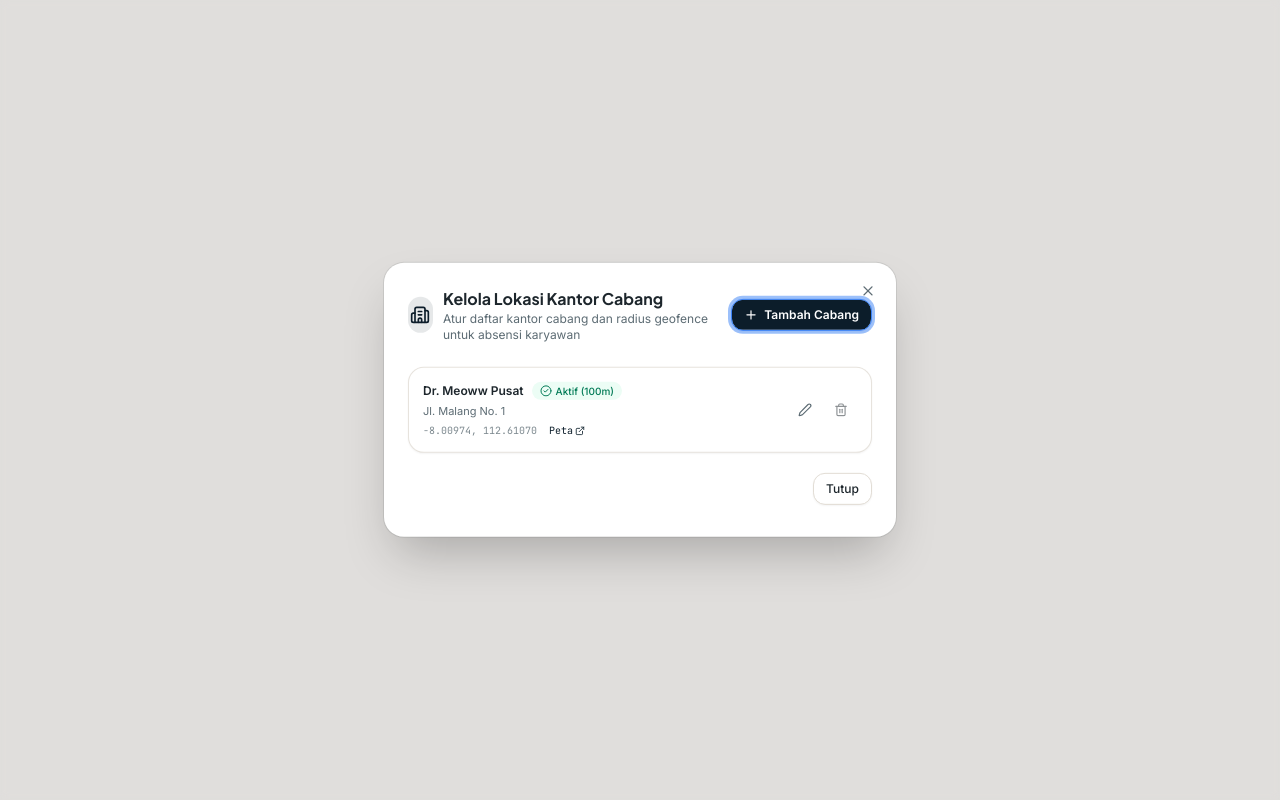
Test: Red-Team Regression Tests - Branch Location & Link Resolution Protections › Defect 6: Concurrency protection ignores out-of-order responses from older requests
Click the button "Tambah Cabang".
click(802, 315)  # box left=731, top=299, right=872, bottom=331
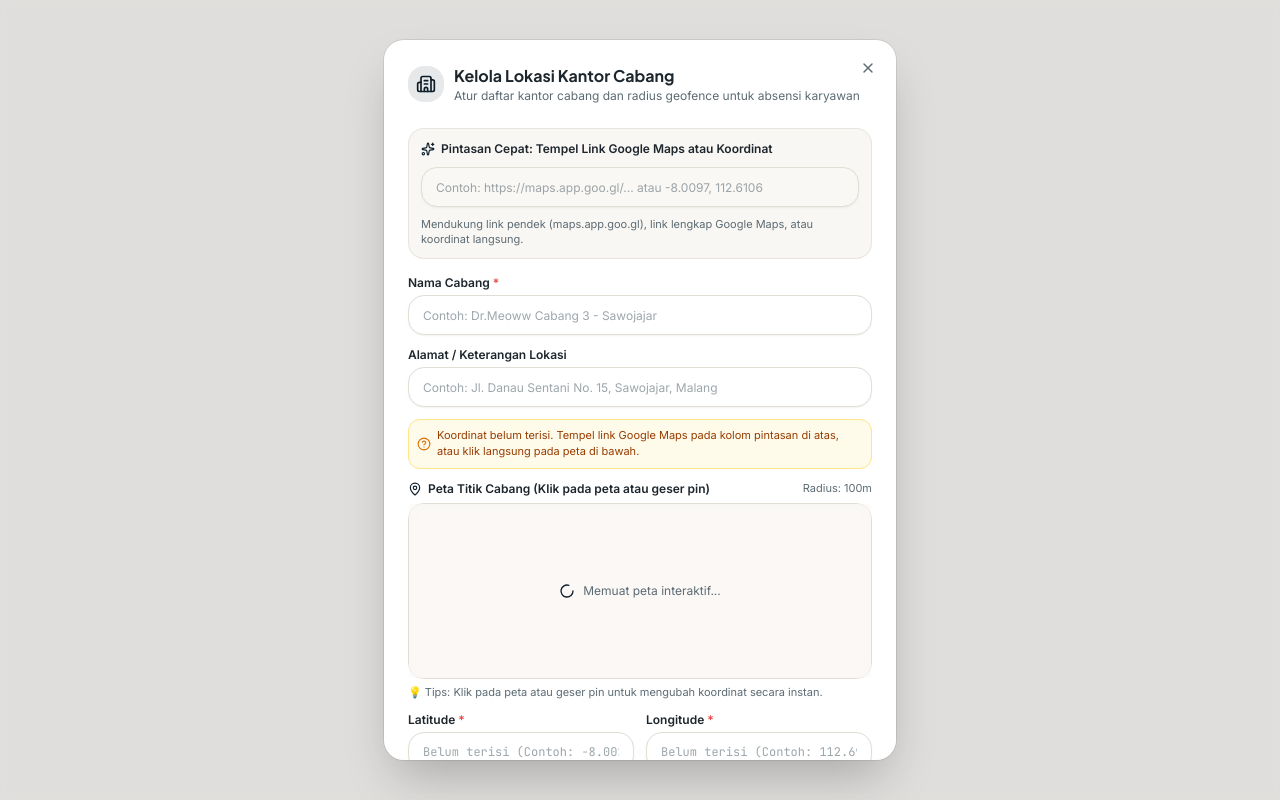
First request
Type "https://maps.app.goo.gl/firstUrl" into the field with placeholder "Contoh: https://maps.app.goo.gl/... atau -8.0097, 112.6106".
click(640, 187); type("https://maps.app.goo.gl/firstUrl")  # box left=421, top=167, right=859, bottom=207
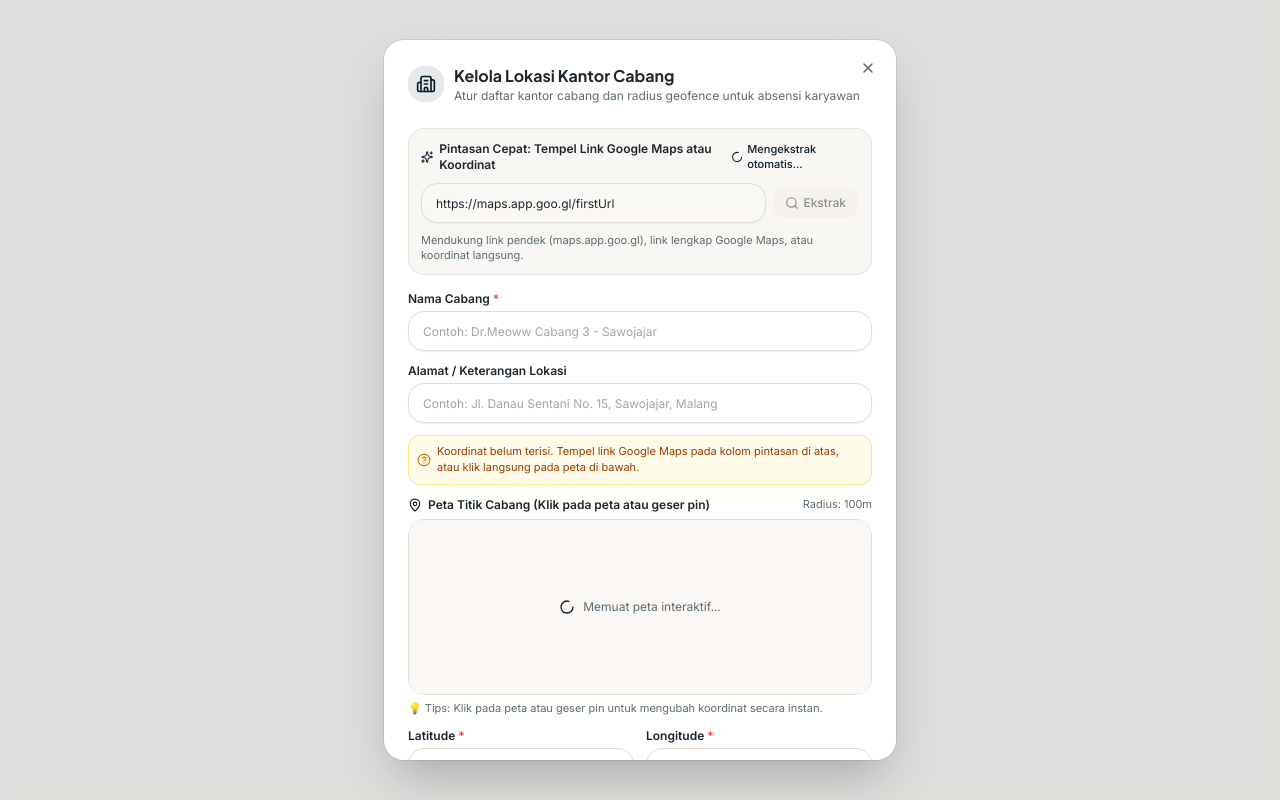
Second request immediately after
Replace the text in the field with placeholder "Contoh: https://maps.app.goo.gl/... atau -8.0097, 112.6106" with "https://maps.app.goo.gl/secondUrl" at {"x": 594, "y": 203}, box left=421, top=183, right=766, bottom=223
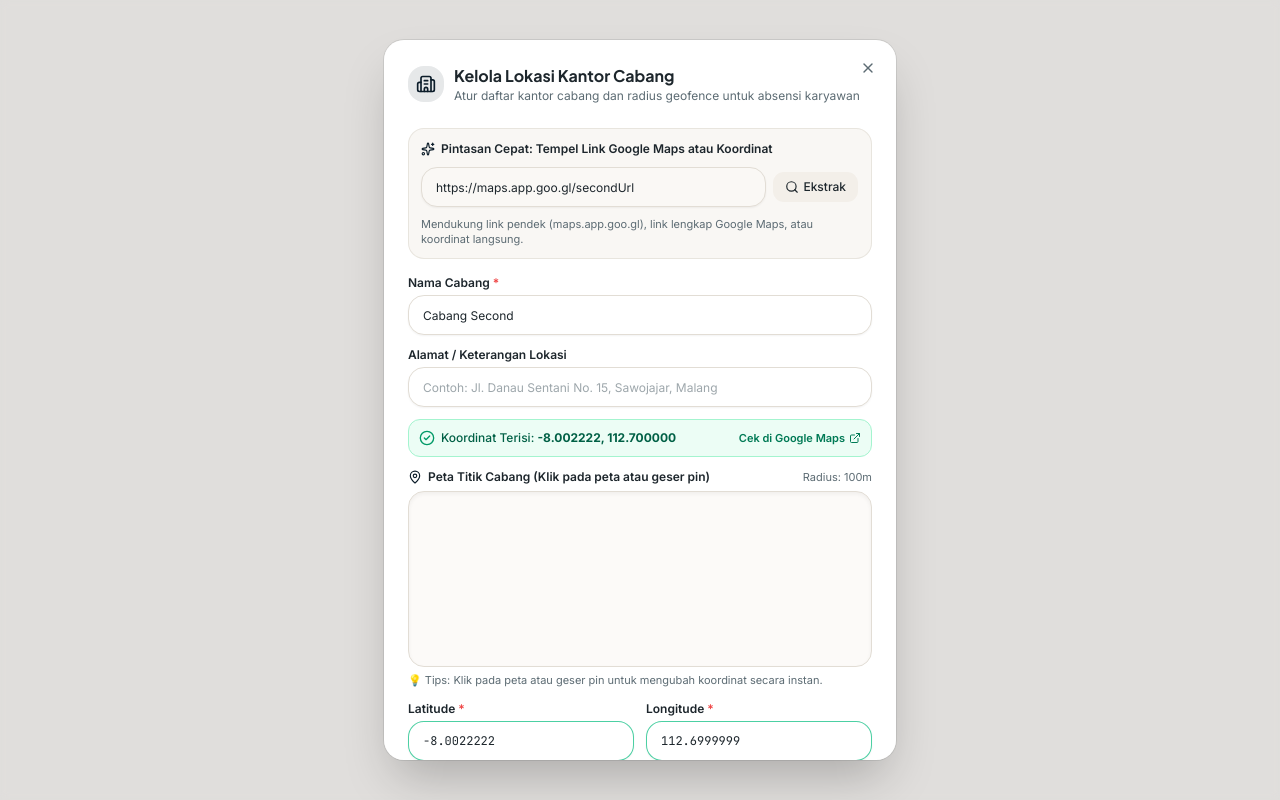
Check: the field labelled "Latitude *" holds "-8.0022222", box left=408, top=721, right=634, bottom=760
